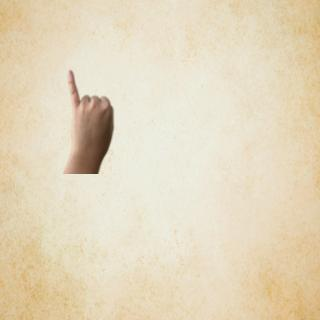Fine: (60, 67, 119, 172)
